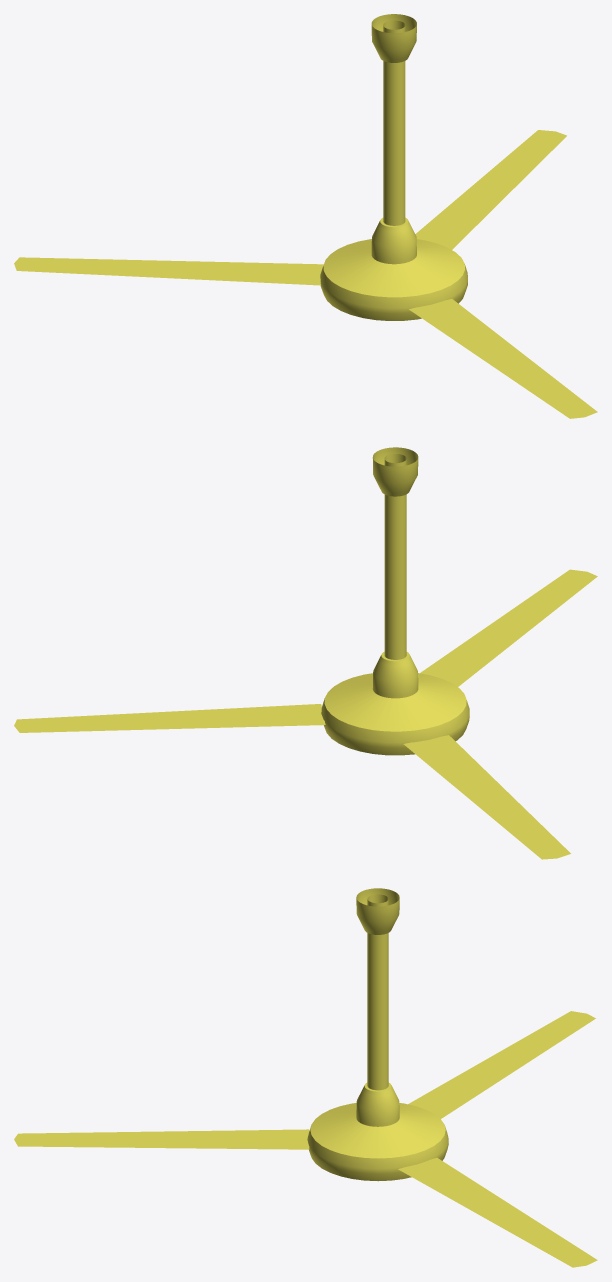
File: vent nuevo.fbx
The picture shows the model from 3 angles, top to bottom: view 1: azimuth 30°, elevation 25°; view 2: azimuth 150°, elevation 25°; view 3: azimuth 270°, elevation 25°; orthographic projection. The views are drawn at different scales.
Visible parts, largest first — view 1: Cylinder; view 2: Cylinder; view 3: Cylinder.
Part boxes in pixels (box(x1,y1,x2,y2)): Cylinder: box(14, 14, 597, 418); Cylinder: box(14, 447, 597, 859); Cylinder: box(14, 888, 597, 1267).
Size of the model in its own units: 626 by 305 by 602.
